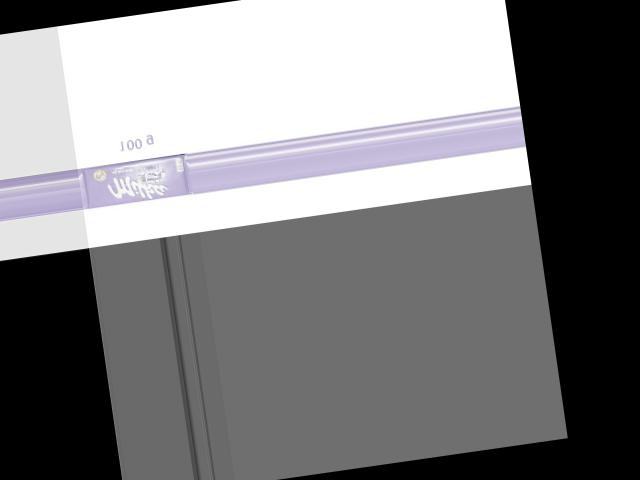chocolate: (79, 145, 194, 210)
